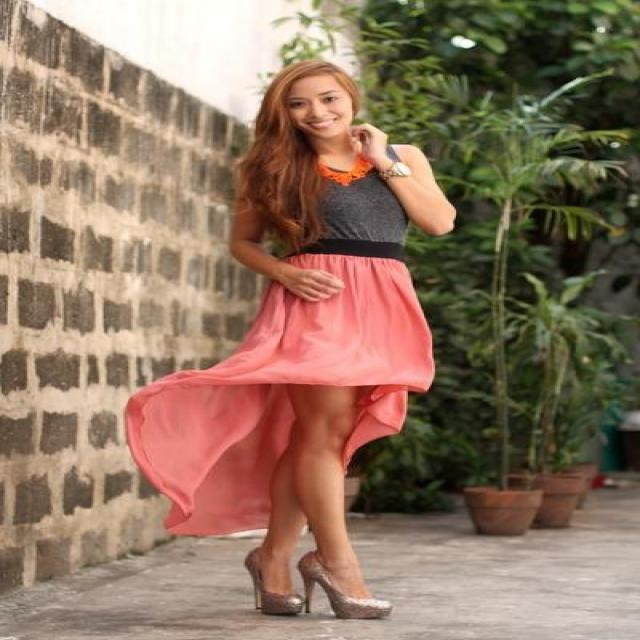shirt: (333, 167, 416, 246)
shoe: (251, 565, 389, 619)
skirt: (112, 254, 434, 536)
